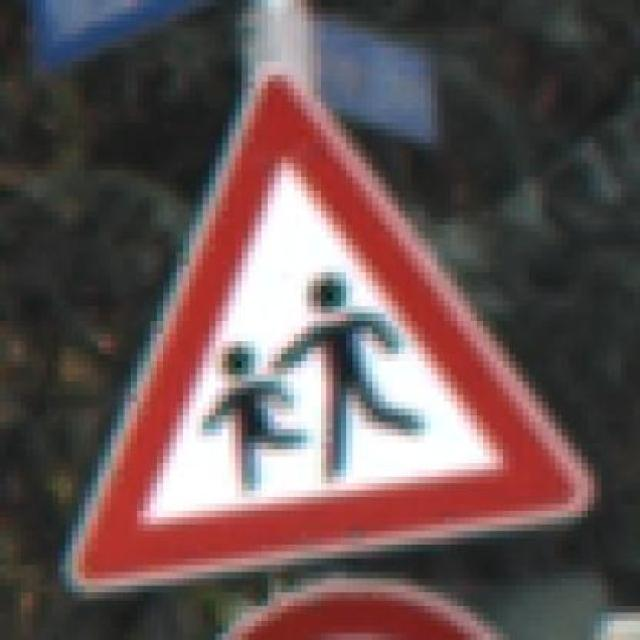Beware of children: (65, 62, 601, 592)
